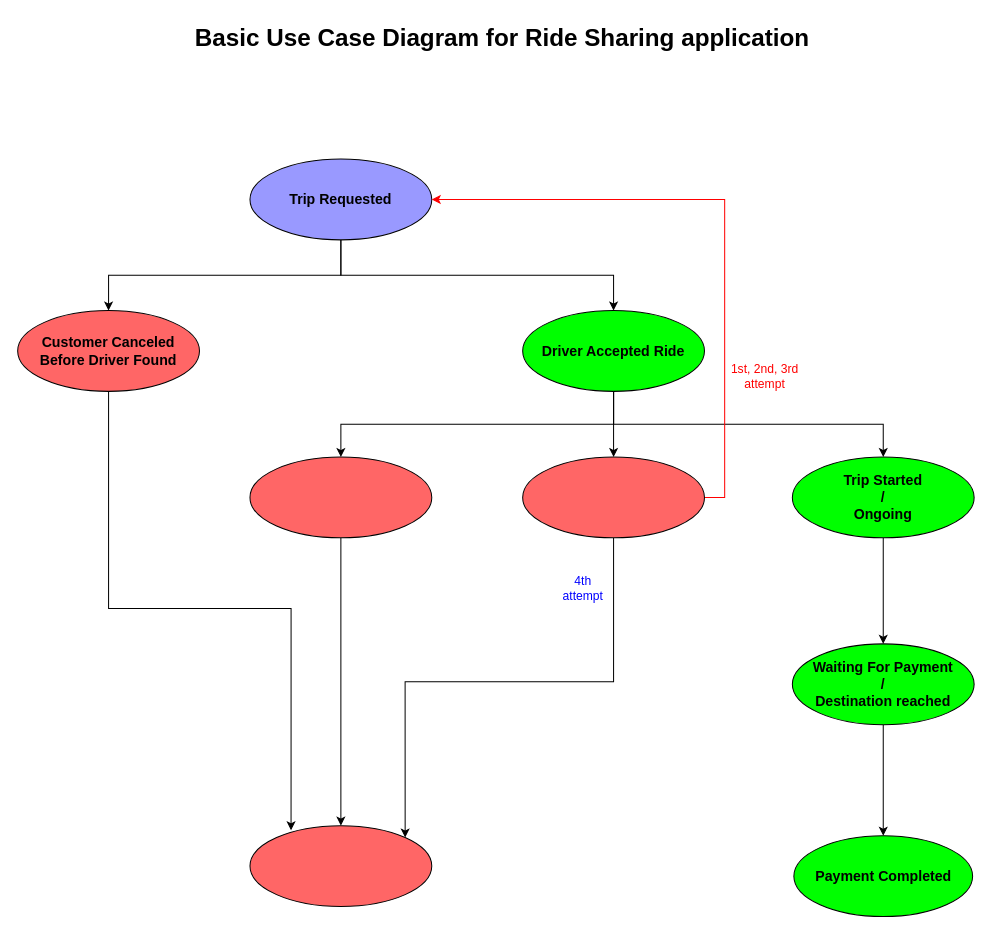
Some shapes in this 992 by 934 pixel diagram are drawn without their labels. The shapes that lost their labels are listed below. From the top down, each one's centre as x and y in pixels, then its label:
the point at 340,497: Customer Rejected Driver
the point at 613,497: Driver Canceled Ride
the point at 340,865: Trip Rejected By System
